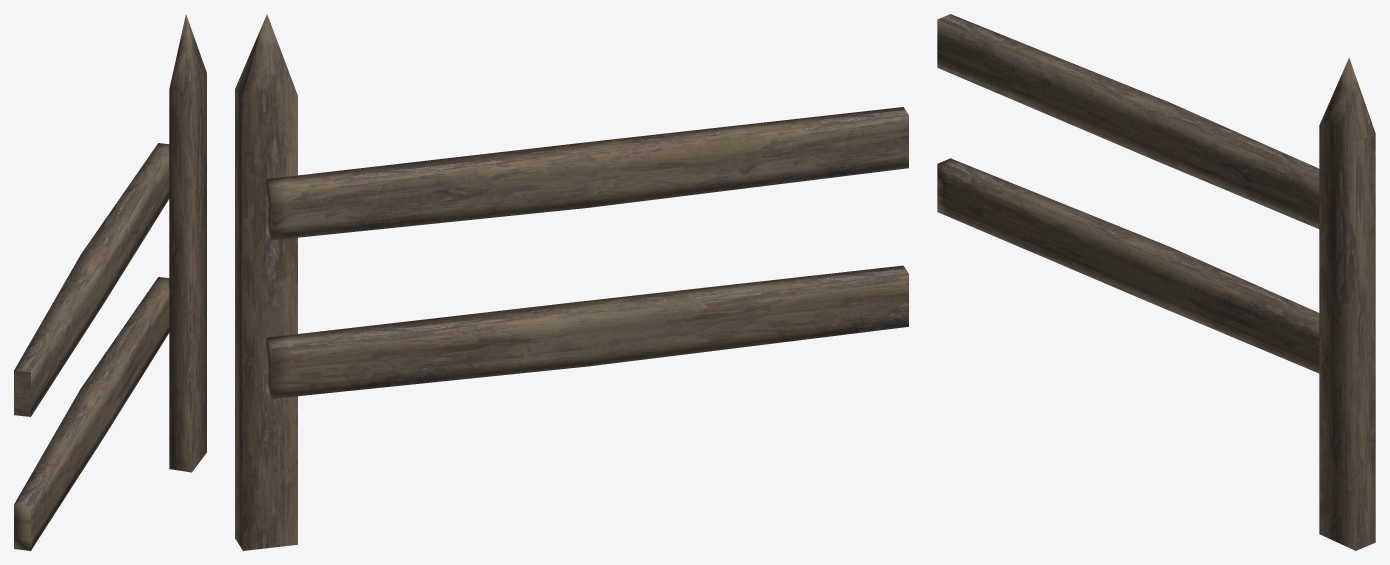
3 renders of one model, left to right at view 1: azimuth 30°, elevation 25°; view 2: azimuth 150°, elevation 25°; view 3: azimuth 270°, elevation 25°, orthographic. The views are drawn at different scales.
Visible parts, largest first — view 1: 1013; view 2: 1013; view 3: 1013.
Boxes of the visible parts, <box> form: 1013: <box>14,14,206,550</box>; 1013: <box>235,14,908,550</box>; 1013: <box>937,14,1375,550</box>.
Bounding box in the file's own units: 1.43 × 1.6 × 1.32.
Materials: 1 (1 with a texture image).
